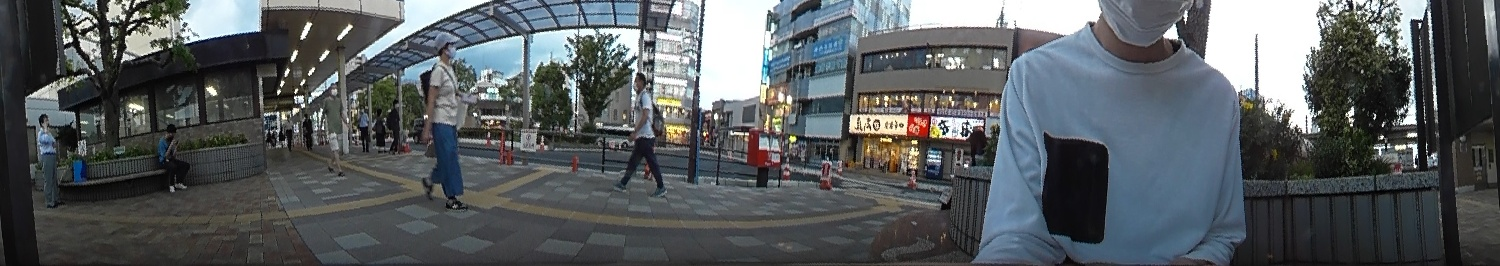difficult_person: (937, 122, 994, 204), (380, 92, 409, 158), (299, 109, 318, 154), (370, 104, 389, 149), (354, 108, 372, 153), (282, 111, 294, 151)
person: (410, 27, 478, 209), (605, 65, 664, 205), (313, 74, 351, 179), (30, 108, 69, 210), (149, 121, 198, 193)
